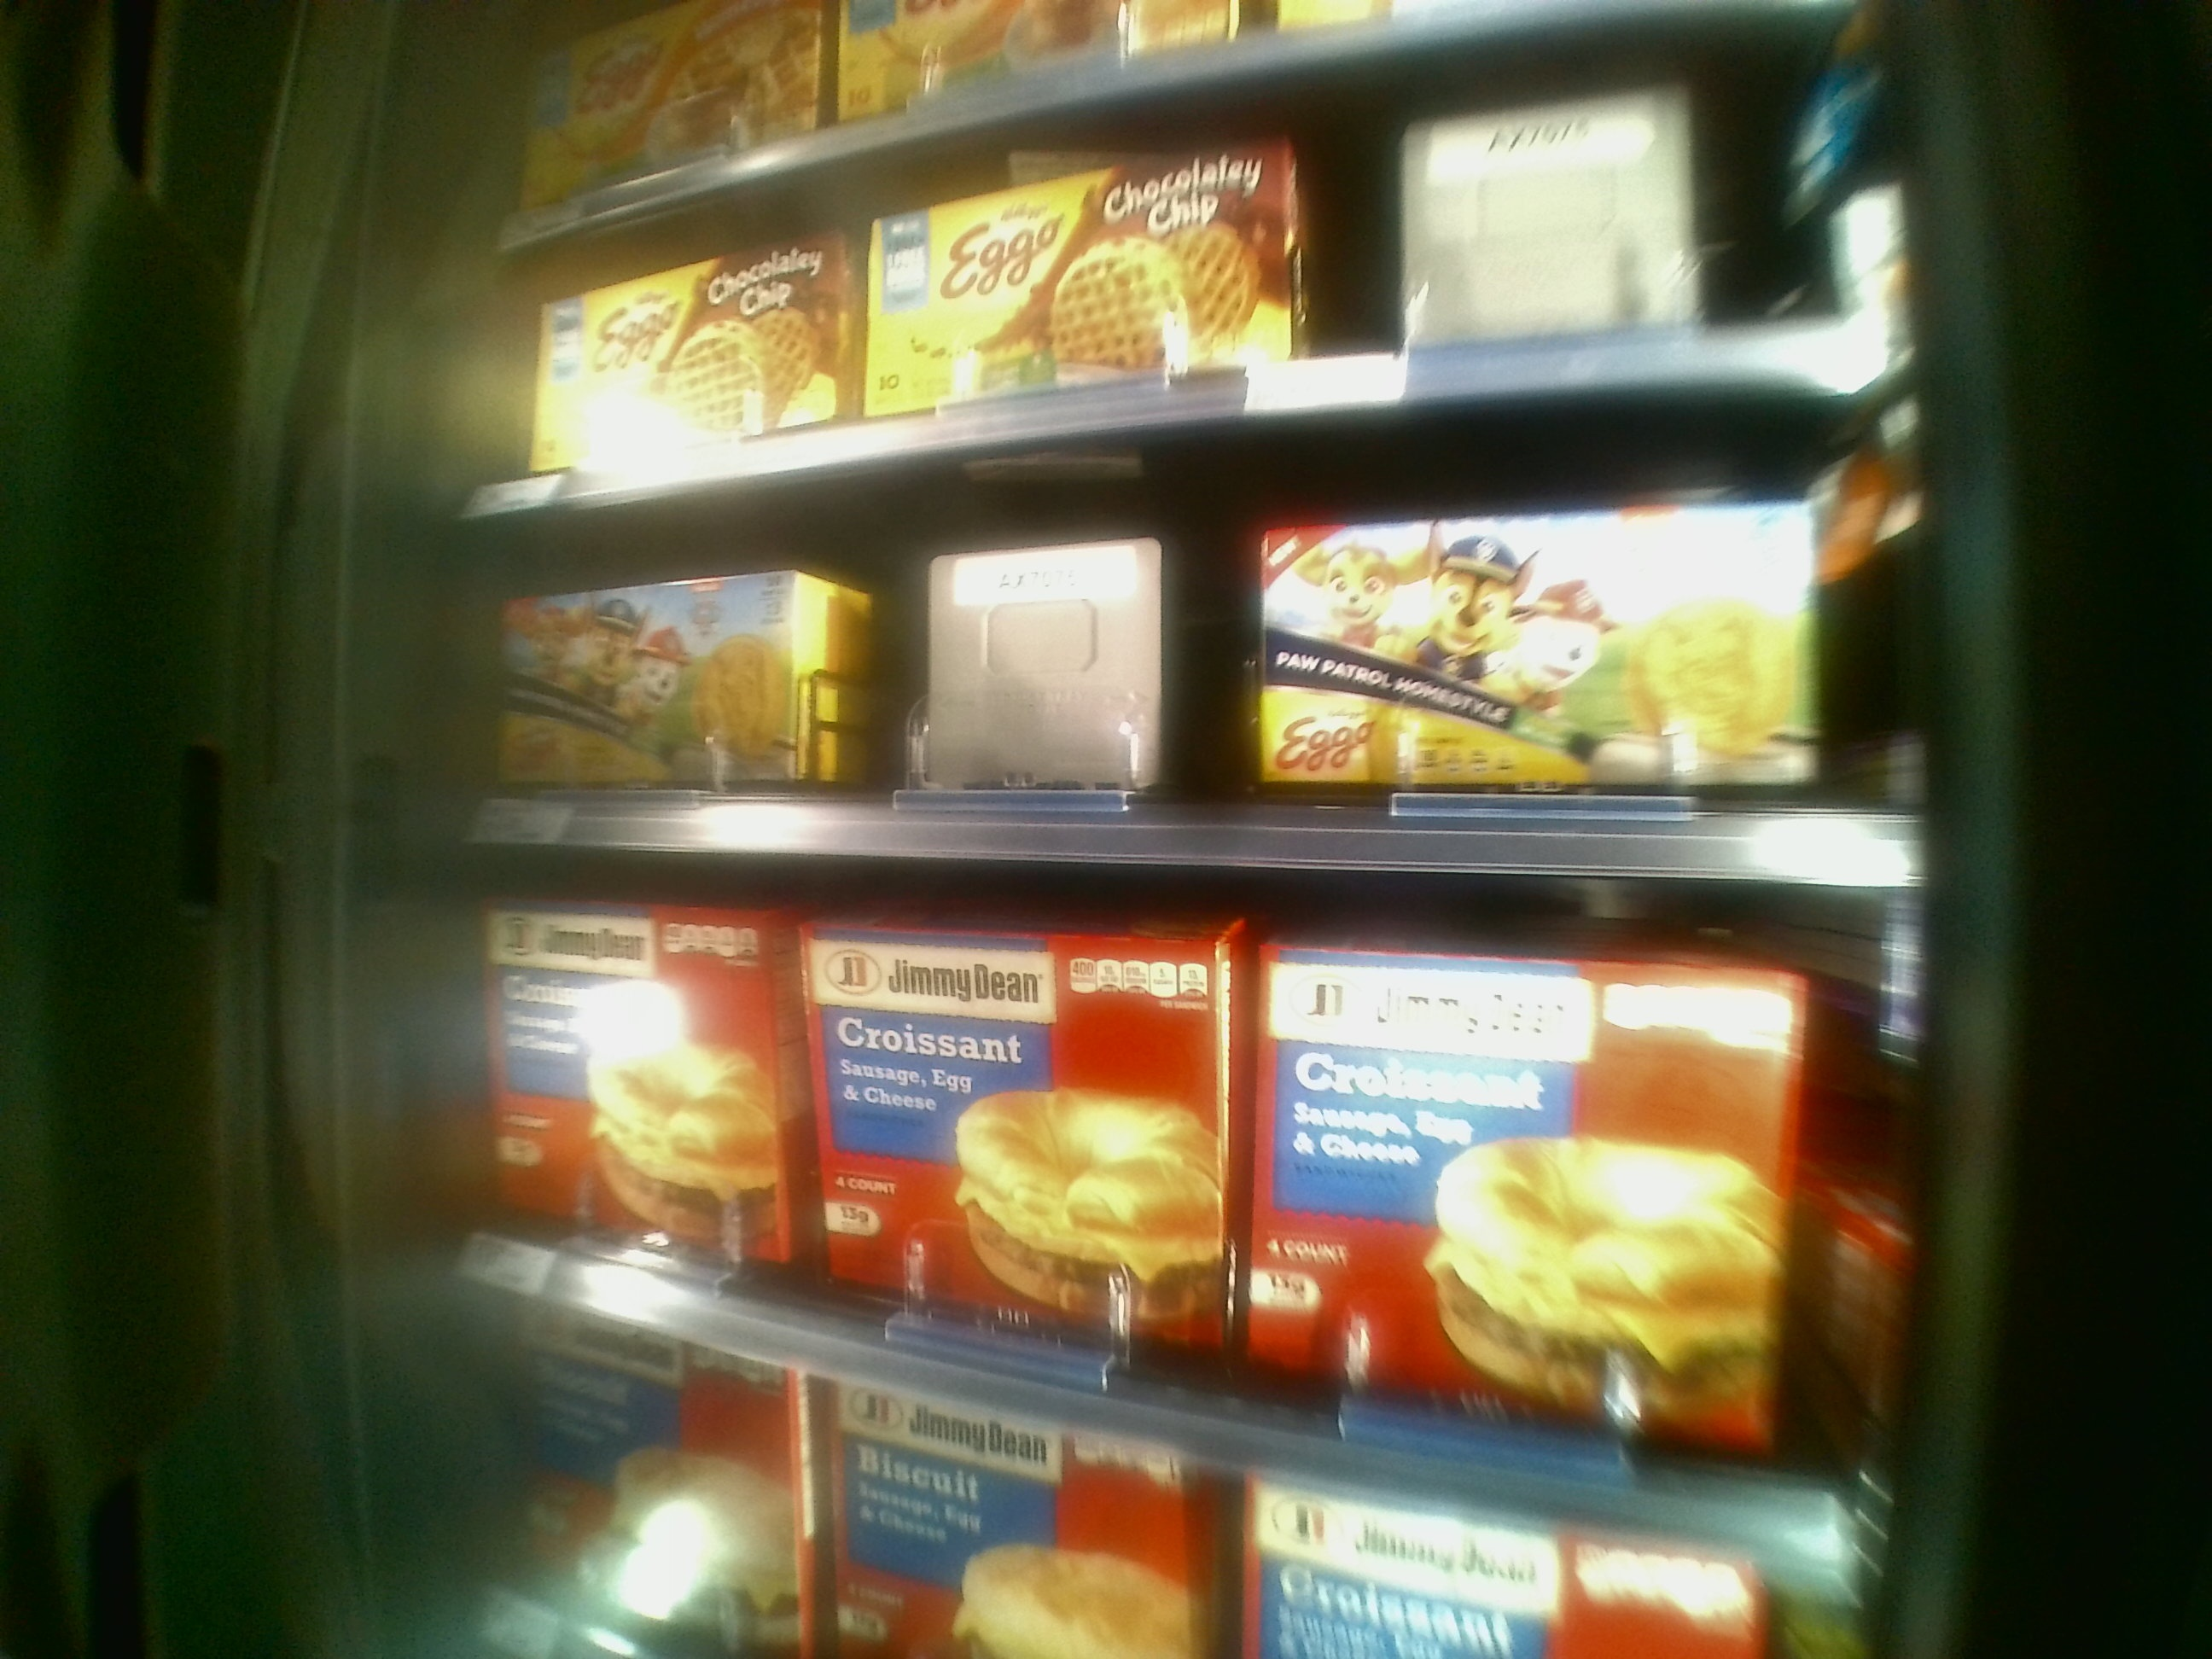shelf: (467, 382, 1905, 884)
